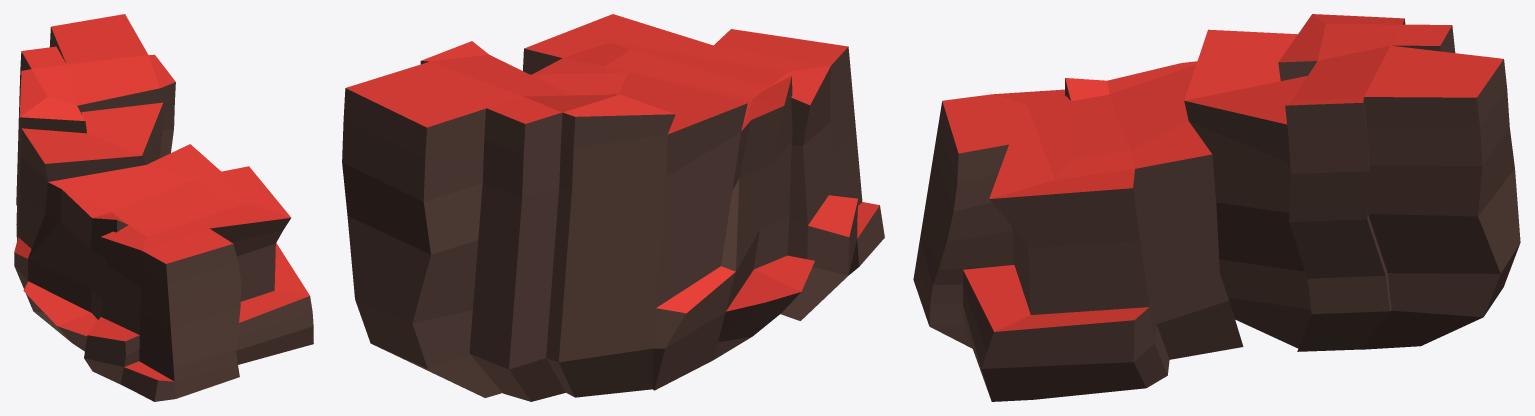
Rendered from Cliff_06.fbx.
3 views of the same model, side by side, from view 1: azimuth 30°, elevation 25°; view 2: azimuth 150°, elevation 25°; view 3: azimuth 270°, elevation 25° (orthographic). The views are drawn at different scales.
Parts seen in each view (by area): view 1: Cliff_06; view 2: Cliff_06; view 3: Cliff_06.
Boxes of the visible parts, <box> form: Cliff_06: <box>14,14,313,401</box>; Cliff_06: <box>342,14,884,401</box>; Cliff_06: <box>913,14,1520,401</box>.
Size of the model in its own units: 1393 by 1327 by 2360.
